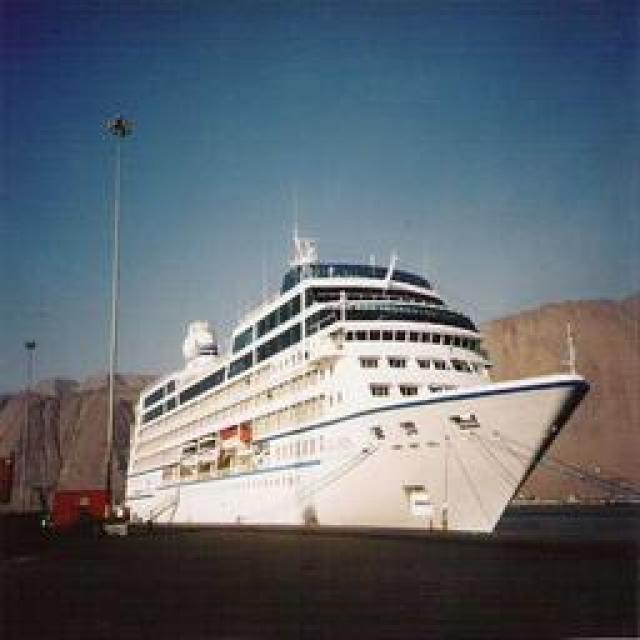CIV_Ship: (131, 244, 594, 544)
